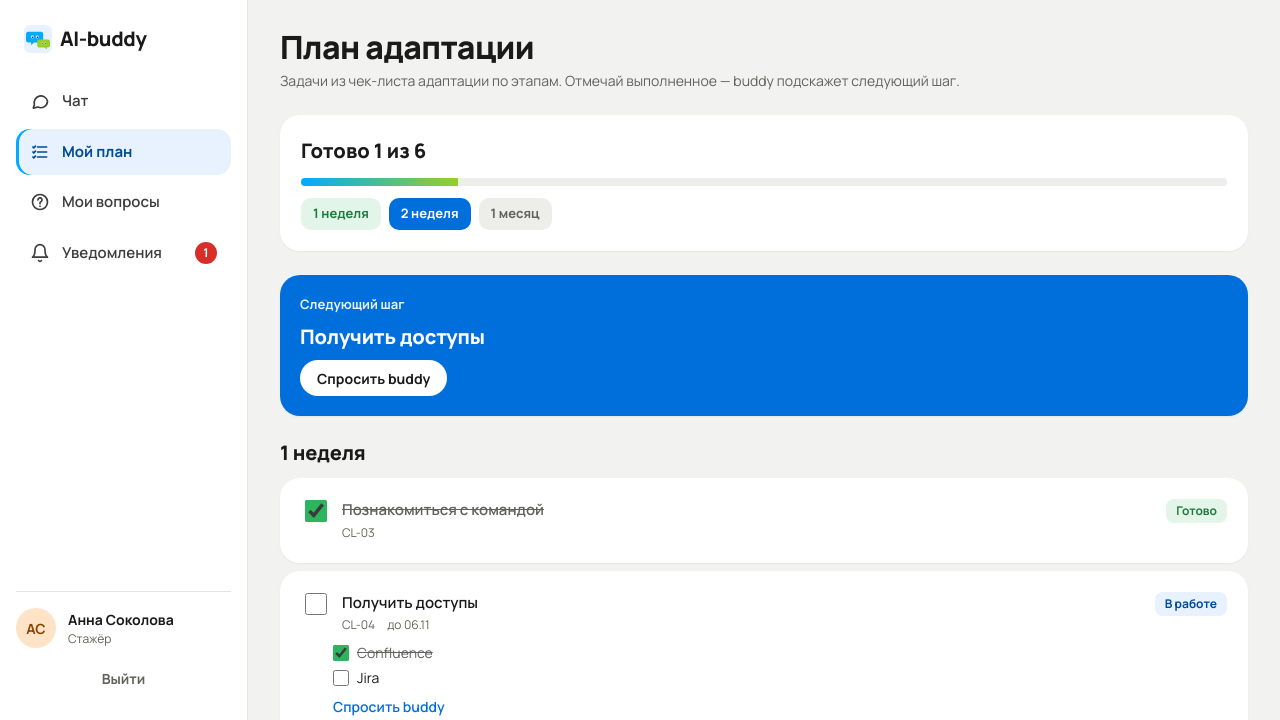
Test case: S1 plan page › S1: a subtask completes its parent
The image size is (1280, 720).
Click the checkbox labelled "Jira". click: (341, 678)
box: [333,670,349,686]
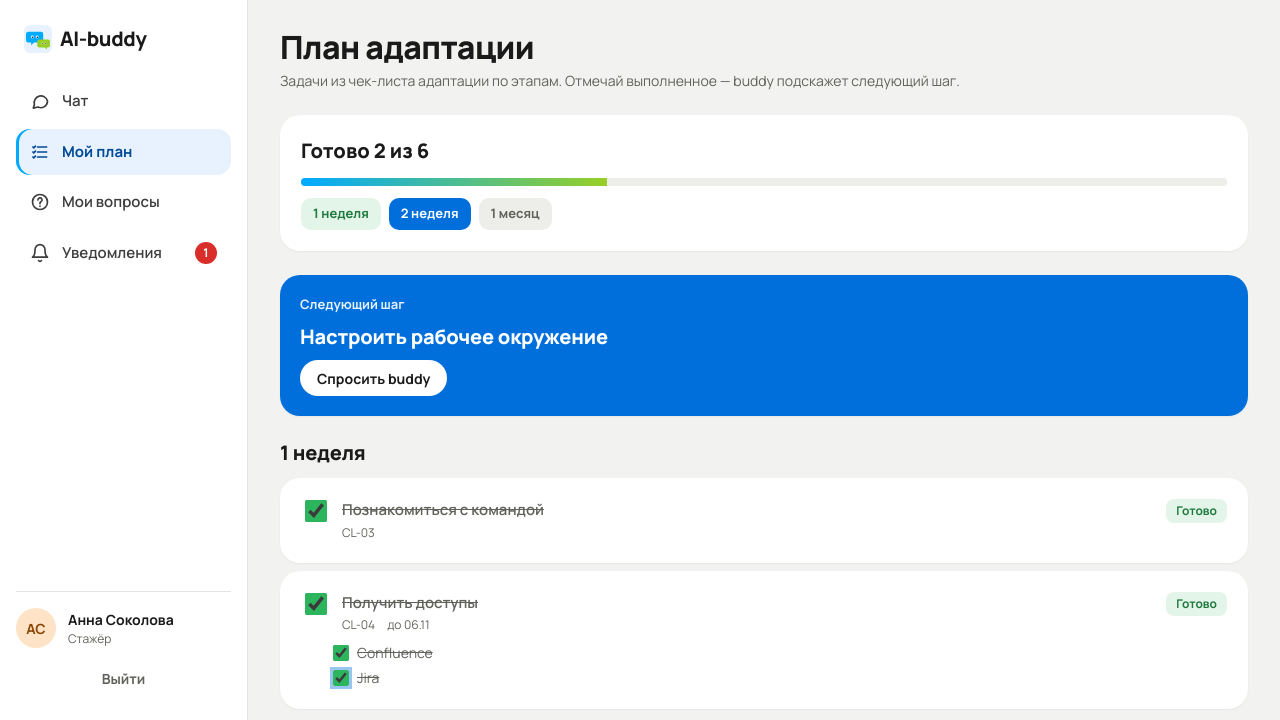
Now the checkbox named "Вернуть в работу: Получить доступы" is checked, box [305,593,327,615]
